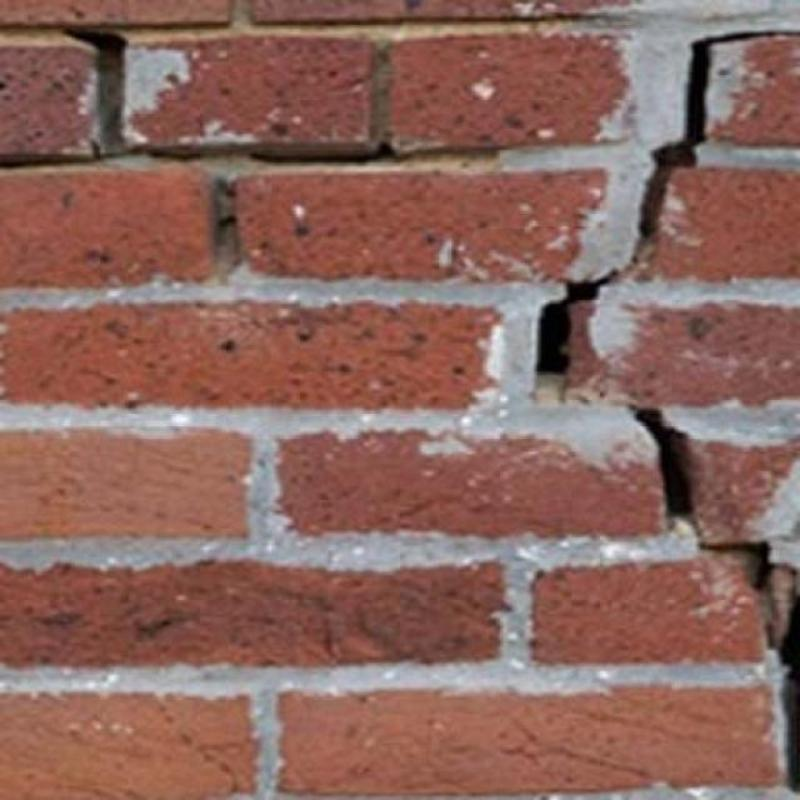pothole: (631, 31, 799, 263), (538, 270, 620, 374), (630, 405, 698, 524), (770, 575, 799, 790), (0, 144, 201, 168), (702, 541, 777, 588), (250, 144, 406, 165), (68, 30, 127, 66), (217, 214, 236, 226)
